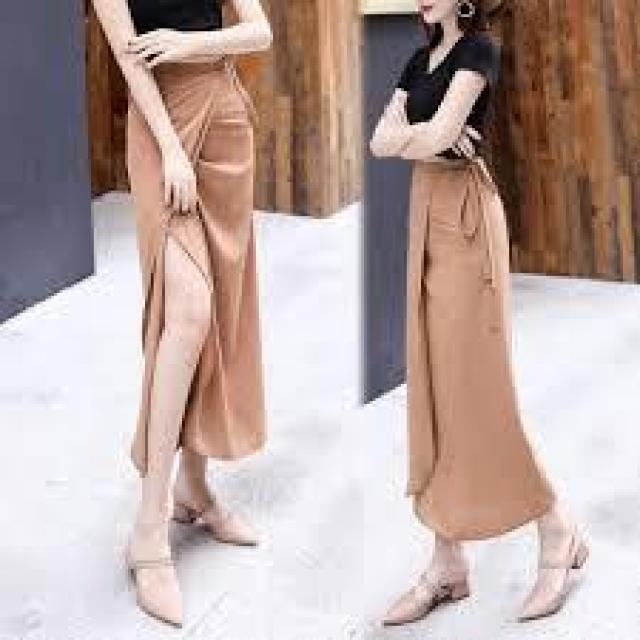skirt: (129, 61, 266, 494), (400, 163, 556, 542)
